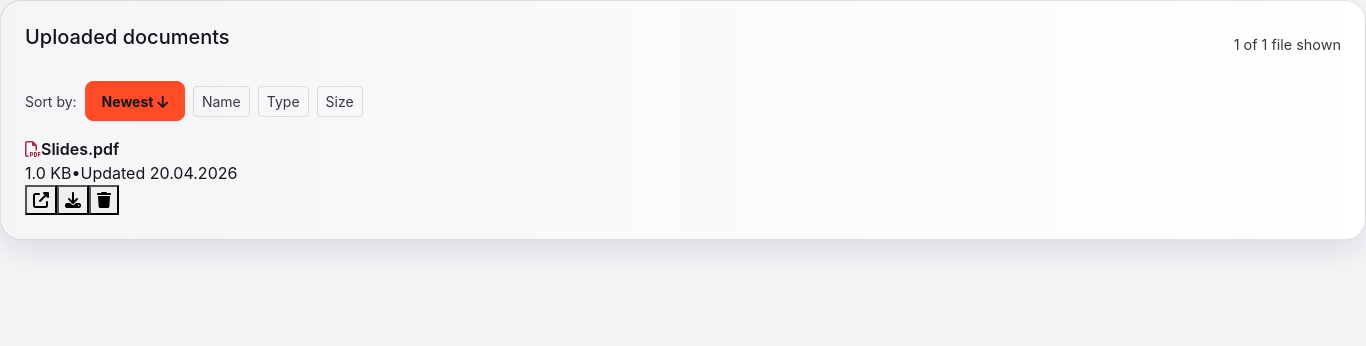
CourseDocumentsList › shows an action error when opening a document fails
The image size is (1366, 346).
Click the button named "Open Slides.pdf": (41, 200) [25,185,57,215]
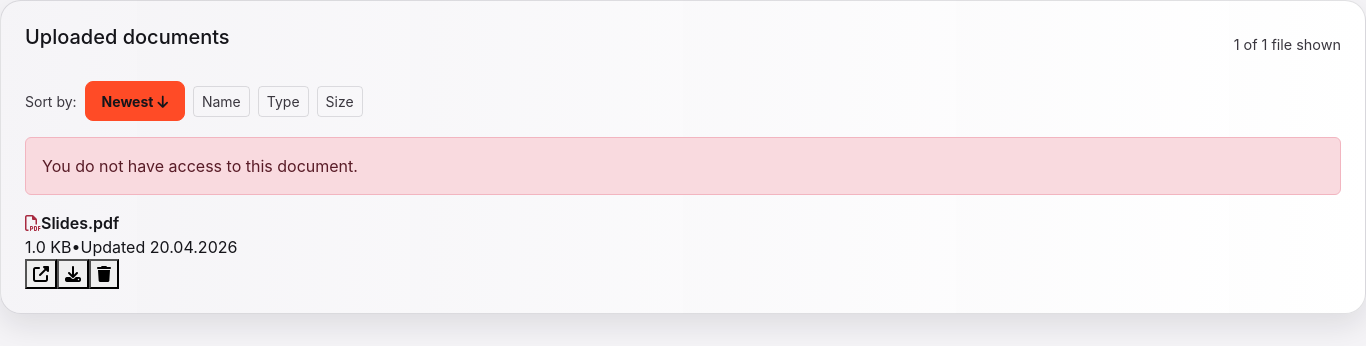
Expected: the text "You do not have access to this document." is shown, [25,137,1341,195]
